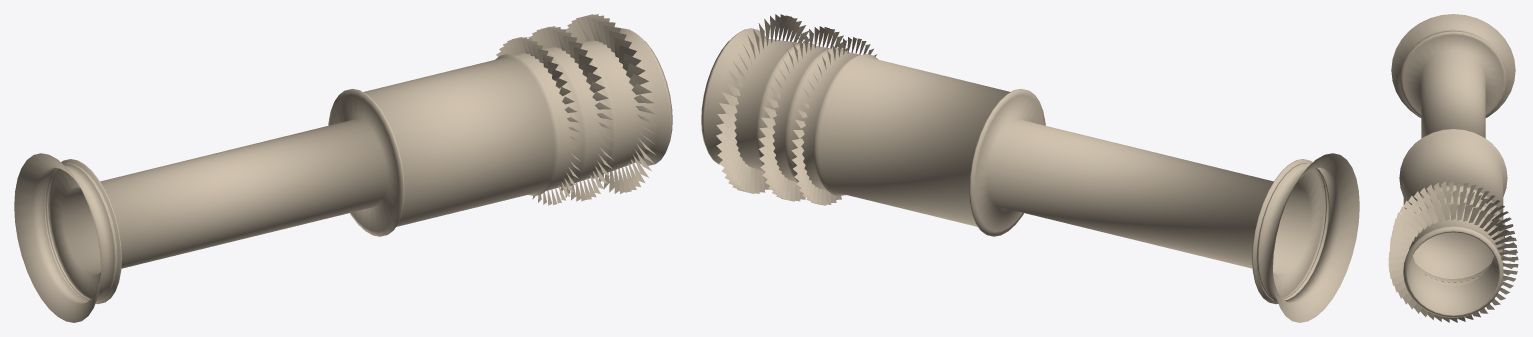
Rendered from 2_high_combustion_turbine.FBX.
3 renders of one model, left to right at view 1: azimuth 30°, elevation 25°; view 2: azimuth 150°, elevation 25°; view 3: azimuth 270°, elevation 25°, orthographic. The views are drawn at different scales.
Visible parts, largest first — view 1: 2_high_combustion_turbine, high_combustion_turbine_blades; view 2: 2_high_combustion_turbine, high_combustion_turbine_blades; view 3: 2_high_combustion_turbine, high_combustion_turbine_blades.
Part boxes in pixels (x1,y1,x2,y2): 2_high_combustion_turbine: (14, 28, 672, 322); high_combustion_turbine_blades: (496, 14, 656, 205); 2_high_combustion_turbine: (701, 28, 1359, 322); high_combustion_turbine_blades: (716, 14, 877, 205); 2_high_combustion_turbine: (1391, 14, 1515, 317); high_combustion_turbine_blades: (1388, 180, 1518, 322).
Bounding box in the file's own units: 2.34 × 0.6302 × 0.6313.
